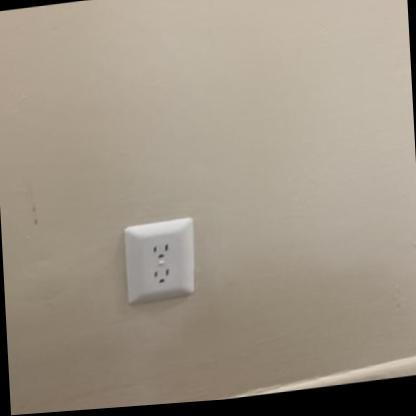OUTLET: (120, 213, 200, 307)
